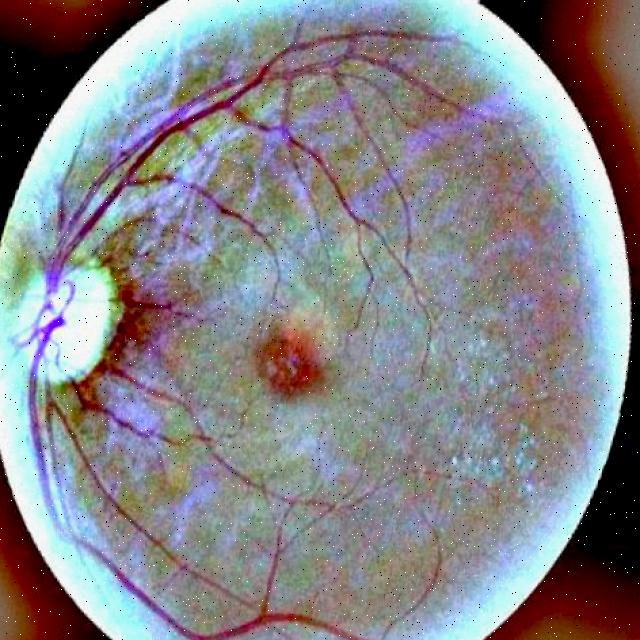Macula: (236, 315, 342, 407)
Nerves: (20, 347, 356, 640), (54, 32, 384, 259), (109, 366, 345, 501), (111, 290, 194, 319)
Optic Disk: (0, 238, 132, 382)
